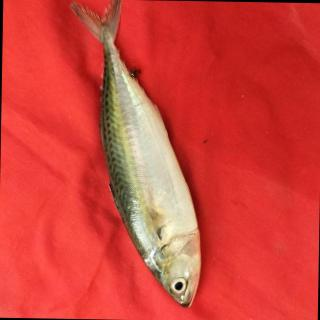Ikan: (49, 1, 224, 316)
